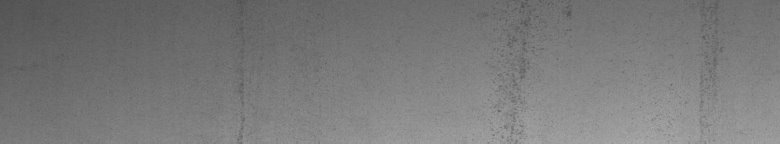ib: (494, 4, 572, 136)
